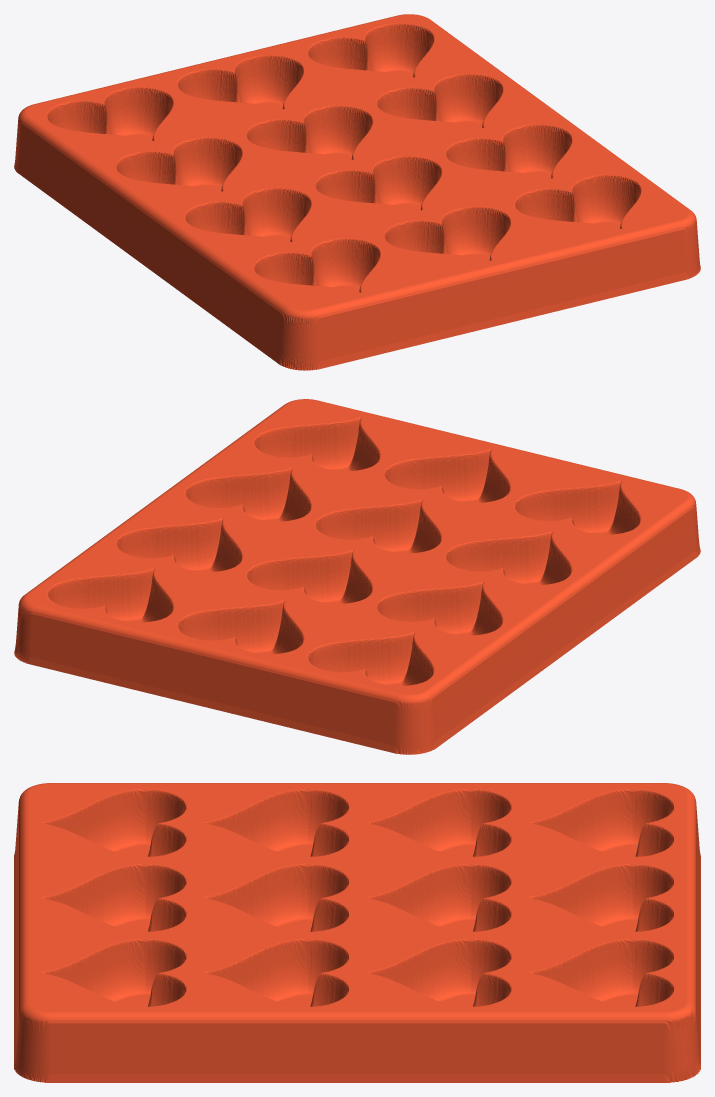
The model's file is mold.glb.
3 renders of one model, top to bottom at view 1: azimuth 30°, elevation 25°; view 2: azimuth 150°, elevation 25°; view 3: azimuth 270°, elevation 25°, orthographic. The views are drawn at different scales.
Parts seen in each view (by area): view 1: geometry_0; view 2: geometry_0; view 3: geometry_0.
Boxes of the visible parts, left/top/right/bottom form: geometry_0: left=14, top=14, right=700, bottom=370; geometry_0: left=14, top=399, right=700, bottom=754; geometry_0: left=14, top=783, right=700, bottom=1082.
Size of the model in its own units: 0.1389 by 0.0175 by 0.1678.
